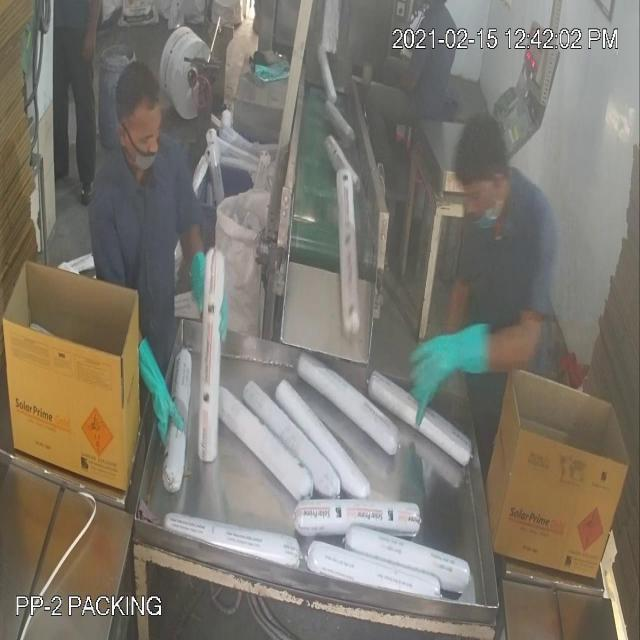Gloves: (52, 82, 452, 394)
